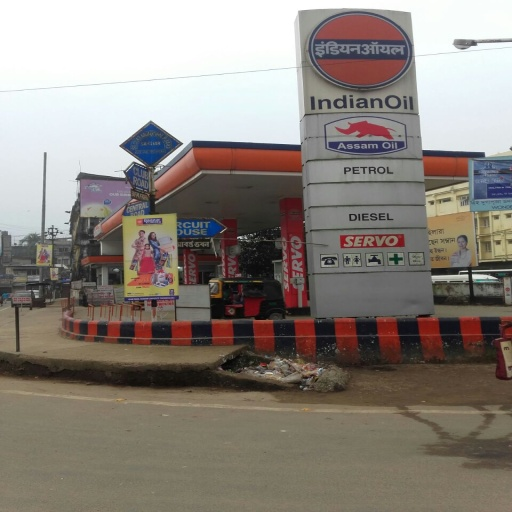roof: (89, 147, 489, 249)
